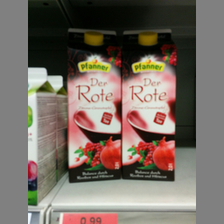juice: (119, 28, 178, 182), (65, 27, 121, 183)
